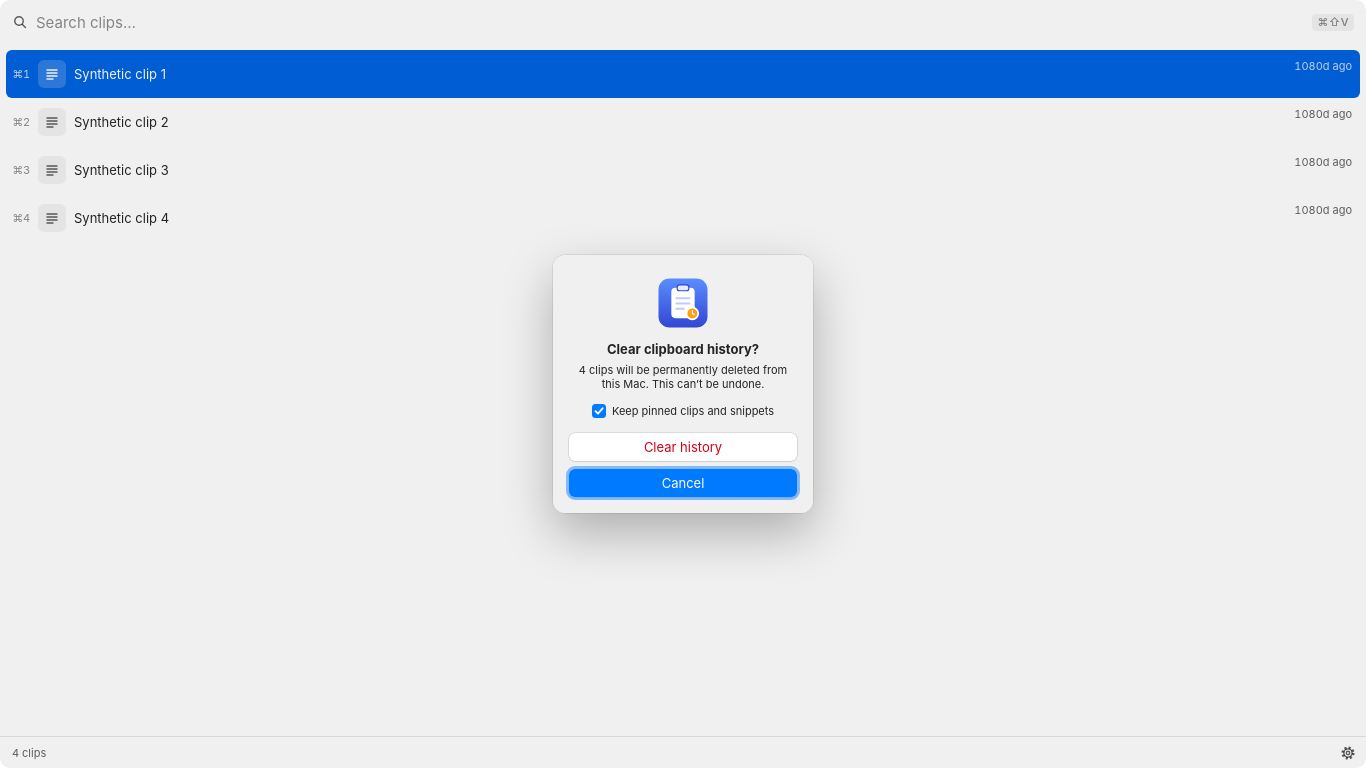
Test: Popover, Clear history… from the tray menu › clears the history, pinned clips kept, when Clear history is confirmed as it is
This screenshot has width=1366, height=768.
Click the button with id "btn-clear-confirm": (683, 447) [569,433,797,461]
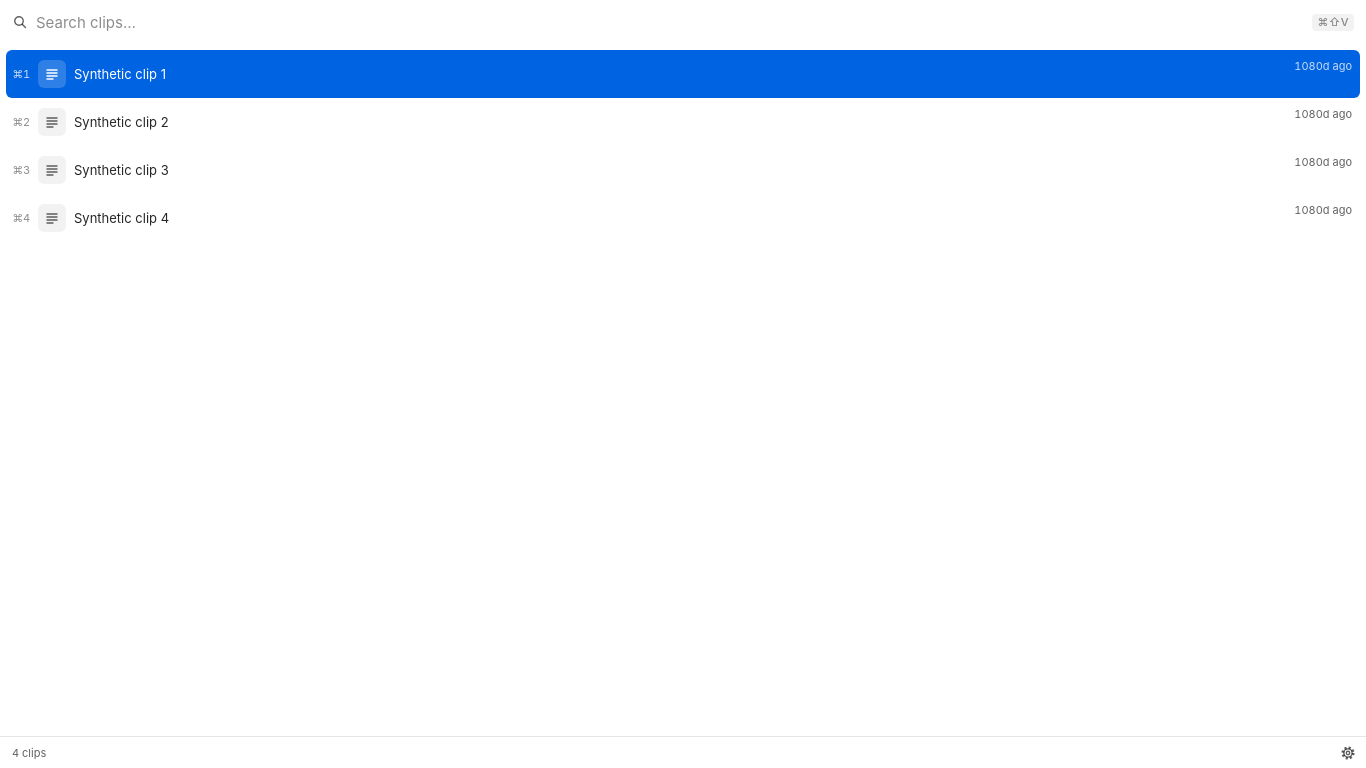
Now the dialog with id "dialog-clear-history" is gone
